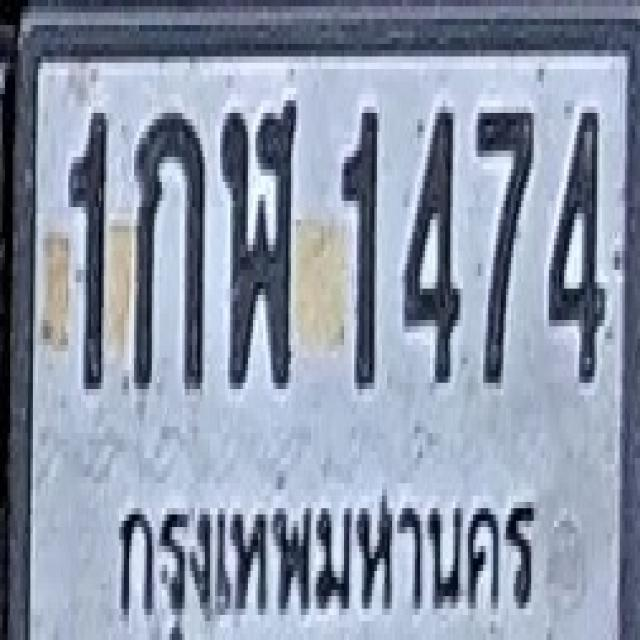1: (68, 107, 106, 389), (340, 107, 378, 389)
4: (404, 106, 459, 382), (548, 106, 603, 382)
7: (476, 106, 534, 382)
A01: (131, 107, 205, 389)
A42: (222, 97, 298, 386)
BKK: (106, 476, 547, 634)
